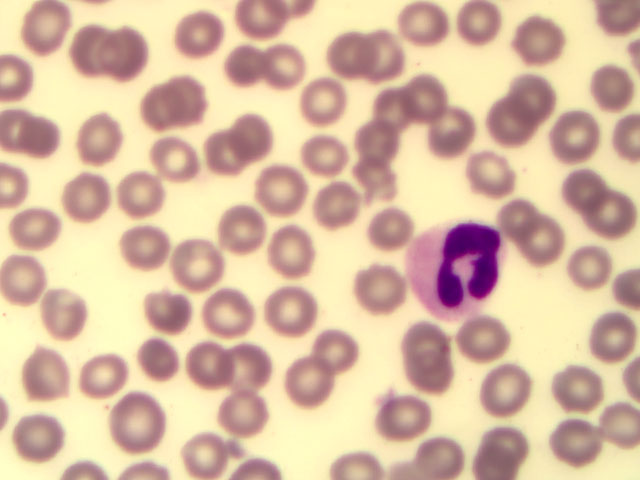RBC: (249, 163, 310, 220), (228, 110, 289, 167), (195, 125, 256, 182), (141, 135, 202, 192), (286, 123, 347, 180), (293, 76, 354, 133), (257, 41, 318, 98), (221, 38, 282, 95), (169, 6, 230, 63), (317, 23, 378, 80), (352, 24, 413, 81), (360, 79, 421, 136), (387, 65, 448, 122), (395, 1, 456, 58), (422, 101, 483, 158), (351, 112, 412, 169), (353, 159, 414, 216), (301, 182, 362, 239), (354, 195, 415, 252), (261, 282, 322, 339), (197, 281, 258, 338), (219, 337, 280, 394), (180, 339, 241, 396), (217, 384, 278, 441), (175, 423, 236, 480), (280, 353, 341, 410), (299, 320, 360, 377), (356, 256, 417, 313), (394, 313, 455, 370), (402, 342, 463, 399), (452, 306, 513, 363), (476, 359, 537, 416), (374, 388, 435, 445), (420, 423, 481, 480), (462, 423, 523, 480), (545, 412, 606, 469), (549, 365, 610, 422), (579, 312, 640, 369), (567, 241, 628, 298), (517, 217, 578, 274), (494, 192, 555, 249), (469, 138, 530, 195), (477, 97, 538, 154), (498, 69, 559, 126), (508, 18, 569, 75), (545, 108, 606, 165), (579, 64, 640, 121), (550, 159, 611, 216), (579, 185, 640, 242), (60, 22, 119, 80), (92, 23, 151, 81), (120, 76, 179, 134), (161, 69, 220, 127), (72, 112, 131, 170), (27, 106, 86, 164), (53, 170, 112, 228), (111, 165, 170, 223), (6, 200, 65, 258), (1, 250, 60, 308), (38, 281, 97, 339), (19, 348, 78, 406), (10, 407, 69, 465), (76, 347, 135, 405), (107, 392, 166, 450), (134, 330, 193, 388), (141, 282, 200, 340), (119, 221, 178, 279), (169, 237, 228, 295), (212, 200, 271, 258), (254, 212, 313, 270), (443, 1, 504, 57), (18, 1, 77, 58)
WBC: (410, 223, 514, 320)
